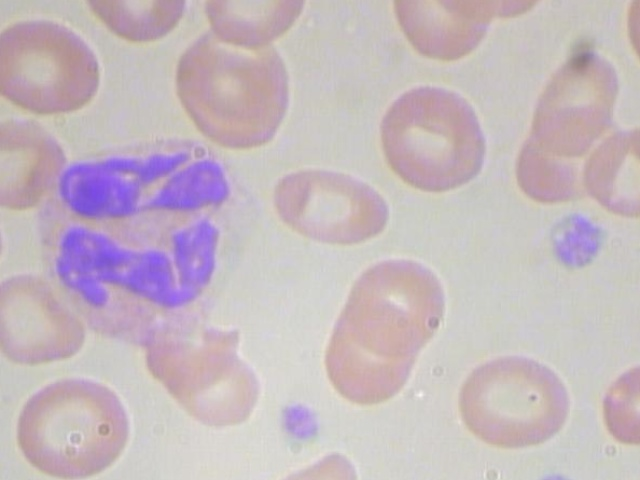Platelets: (540, 205, 610, 276), (272, 391, 333, 445)
RBC: (169, 19, 305, 153), (448, 343, 582, 456), (366, 79, 493, 197), (8, 368, 139, 480), (316, 293, 433, 408), (516, 49, 632, 164), (340, 250, 451, 365), (0, 13, 116, 122), (269, 161, 394, 249), (158, 340, 270, 434), (0, 266, 90, 369), (381, 0, 507, 68), (0, 113, 80, 215), (577, 114, 640, 221), (79, 0, 199, 48), (197, 0, 316, 48)
WBC: (33, 129, 261, 345)
